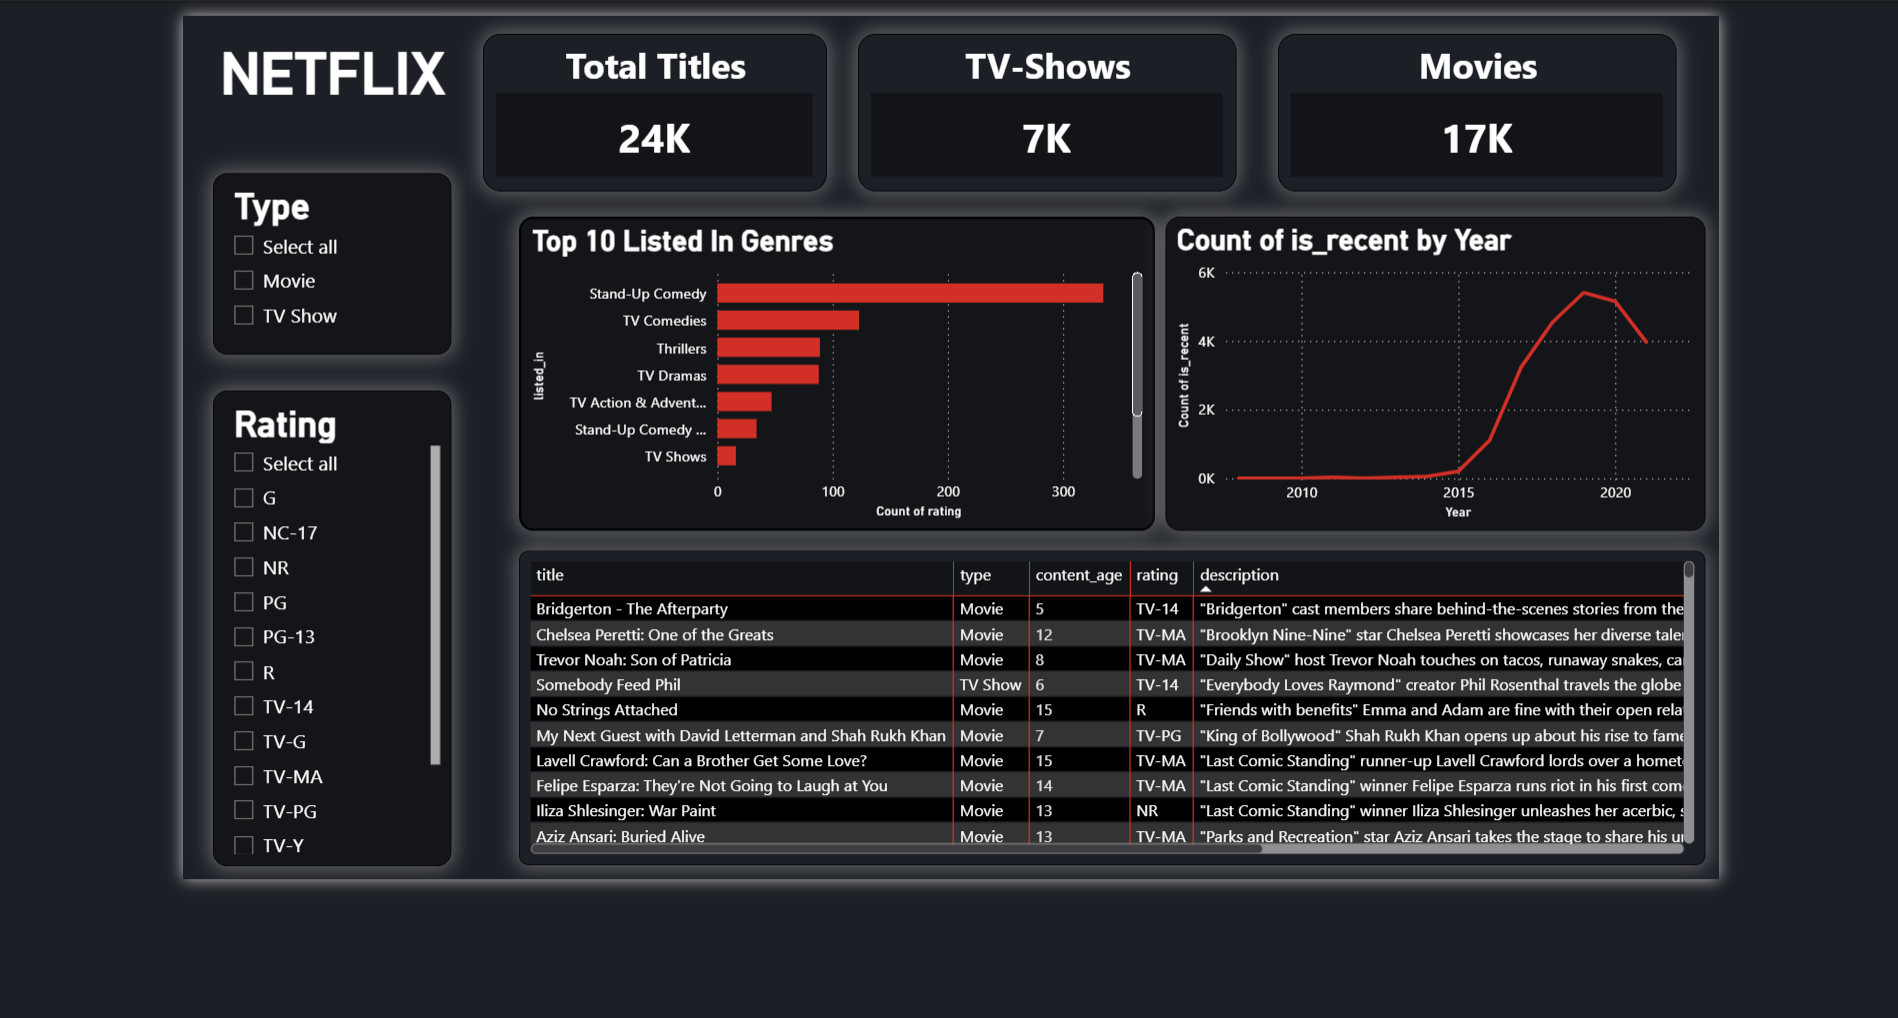

What the dashboard file says about the page in this screenshot:
{"tool":"powerbi","page":{"name":"Overview","canvas":[1280,720],"ordinal":0},"visuals":[{"type":"cardVisual","title":"Movies","fields":{"Data":["All measures.Movies"]},"box":[912.2,15.6,332.2,131.1],"z":0},{"type":"cardVisual","title":"TV-Shows","fields":{"Data":["All measures.TV Shows"]},"box":[562.2,15.6,315.6,131.1],"z":1000},{"type":"cardVisual","title":"Total Titles","fields":{"Data":["All measures.Total Titles"]},"box":[250,15.6,286.7,131.1],"z":2000},{"type":"textbox","box":[0,14.4,250,73.3],"z":3000},{"type":"slicer","fields":{"Values":["netflix_titles.type"]},"box":[25.6,131.1,198.9,151.1],"z":4000},{"type":"slicer","fields":{"Values":["netflix_titles.rating"]},"box":[25.6,312.2,198.9,396.7],"z":4001},{"type":"clusteredBarChart","title":"Top 10 Listed In Genres","fields":{"Category":["netflix_titles.listed_in"],"Y":["CountNonNull(netflix_titles.rating)"]},"box":[280,167.8,530,262.2],"z":4002},{"type":"lineChart","fields":{"Category":["netflix_titles.Year"],"Y":["CountNonNull(netflix_titles.is_recent)"]},"box":[818.9,167.8,450,262.2],"z":4003},{"type":"tableEx","fields":{"Values":["netflix_titles.title","netflix_titles.type","netflix_titles.content_age","netflix_titles.rating","netflix_titles.description"]},"box":[280,446.7,988.9,262.2],"z":4004}]}

Visuals, with their boxes on the page's 1280x720 design canvas (x1, y1, x2, y2). These are canvas units, not pixel positions in the 1898x1018 screenshot, which may show the page scaled, cropped or inside an application window:
"Movies" cardVisual: x1=912, y1=16, x2=1244, y2=147
"TV-Shows" cardVisual: x1=562, y1=16, x2=878, y2=147
"Total Titles" cardVisual: x1=250, y1=16, x2=537, y2=147
textbox: x1=0, y1=14, x2=250, y2=88
slicer - netflix_titles.type: x1=26, y1=131, x2=224, y2=282
slicer - netflix_titles.rating: x1=26, y1=312, x2=224, y2=709
"Top 10 Listed In Genres" clusteredBarChart: x1=280, y1=168, x2=810, y2=430
lineChart - netflix_titles.Year x CountNonNull(netflix_titles.is_recent): x1=819, y1=168, x2=1269, y2=430
tableEx - netflix_titles.title x netflix_titles.type: x1=280, y1=447, x2=1269, y2=709
